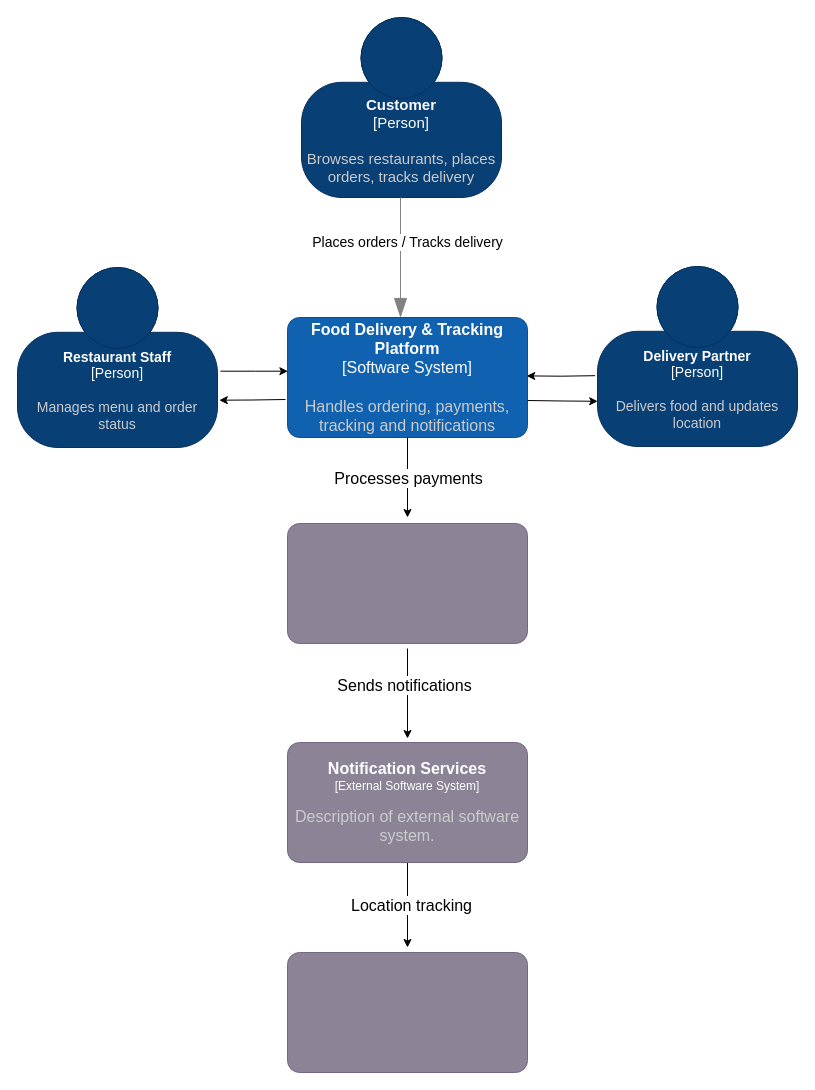
Some shapes in this 815 by 1090 pixel diagram are drawn without their labels. The shapes that lost their labels are listed below. From the top down, each one's centre as x and y in pixels, then its label:
[407,583]: Payment Gateway [External Software System] Processes online payments
[407,1012]: Maps / GPS Service [External Software System] Routing and live tracking
